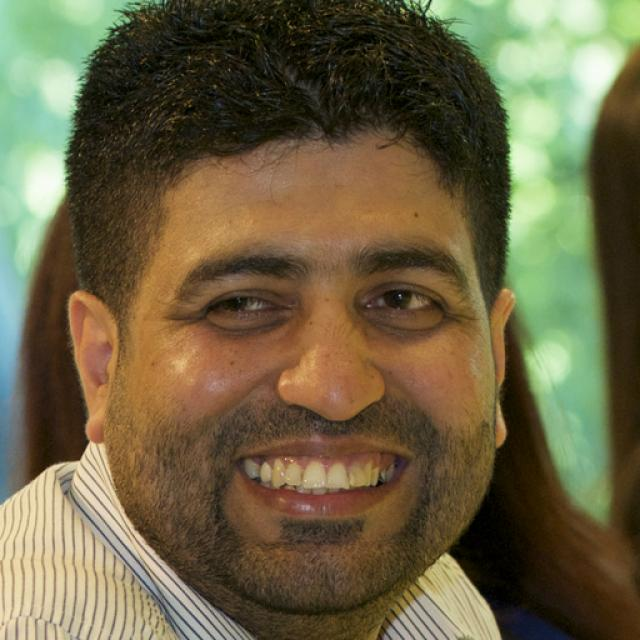Dark Circle: (363, 307, 448, 335), (210, 312, 289, 333)
